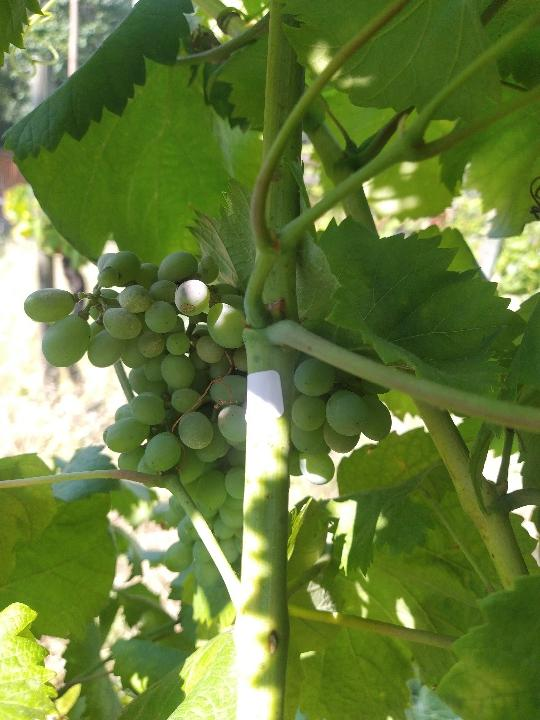grape: (18, 250, 395, 588)
